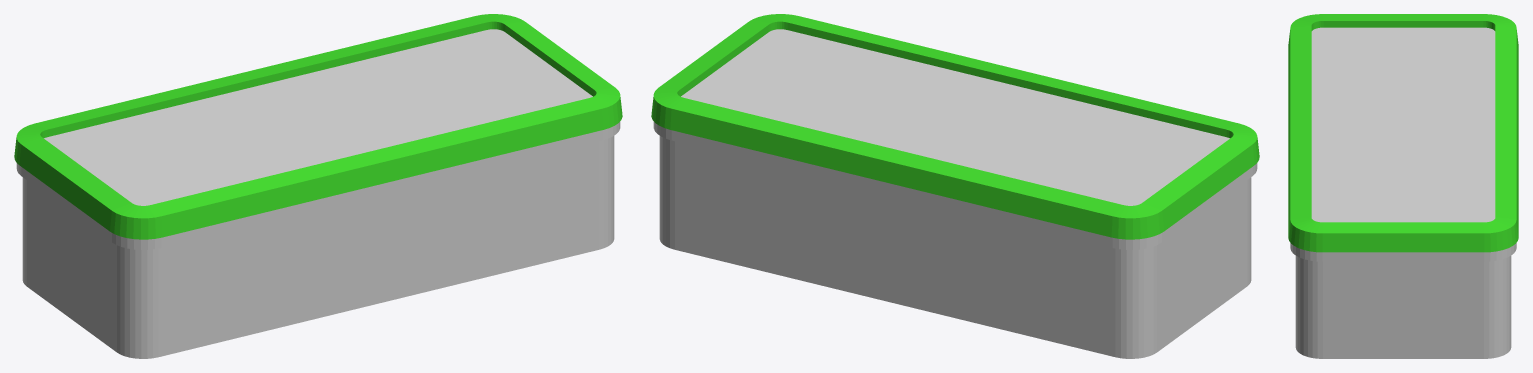
File: Taper.fbx
The picture shows the model from 3 angles, left to right: view 1: azimuth 30°, elevation 25°; view 2: azimuth 150°, elevation 25°; view 3: azimuth 270°, elevation 25°; orthographic projection. The views are drawn at different scales.
Parts seen in each view (by area): view 1: Cube; view 2: Cube; view 3: Cube.
Part boxes in pixels (<box>): Cube: <box>14,14,622,358</box>; Cube: <box>651,14,1259,358</box>; Cube: <box>1288,14,1518,358</box>.
Bounding box in the file's own units: 97.82 × 26.8 × 43.07.
